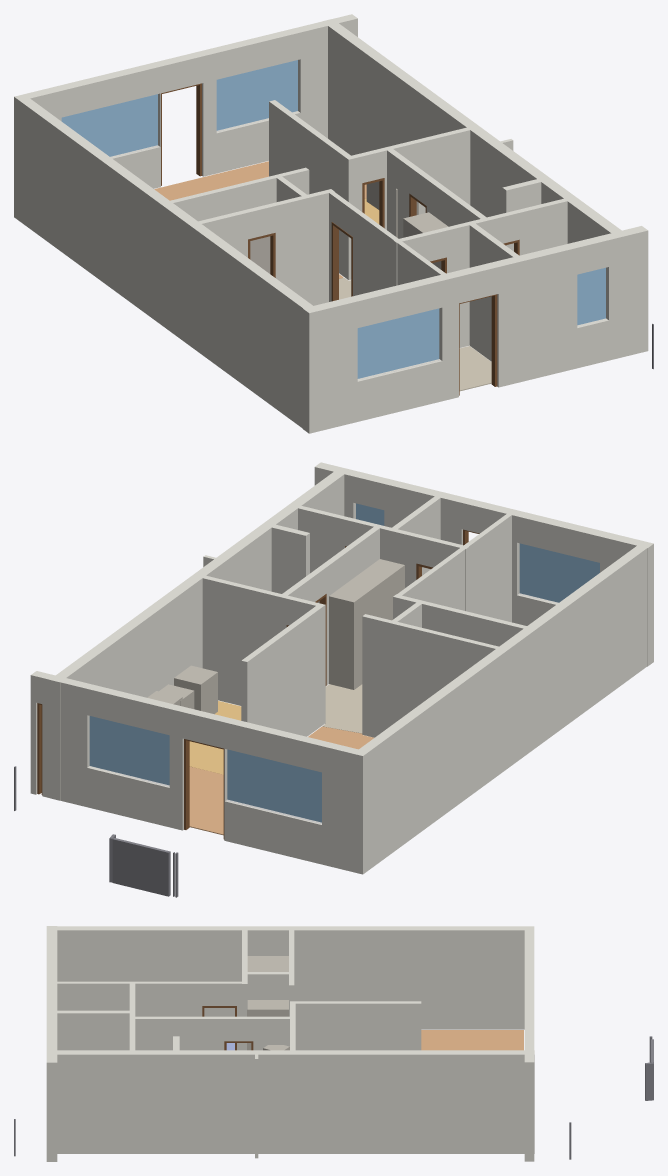
The picture shows the model from 3 angles, top to bottom: view 1: azimuth 30°, elevation 25°; view 2: azimuth 150°, elevation 25°; view 3: azimuth 270°, elevation 25°; orthographic projection. The views are drawn at different scales.
Visible parts, largest first — view 1: walls, window_0, window_4, window_3, floor_0_Living_Room, window_5, floor_6_Entry, door_1, furniture_2_closet, door_9, door_2, furniture_0_closet; view 2: walls, furniture_2_closet, window_3, window_4, railings, window_0, floor_0_Living_Room, floor_2_Entry, furniture_5_appliance, floor_1_Kitchen, door_2; view 3: walls, floor_0_Living_Room, furniture_0_closet, railings.
Boxes of the visible parts, x1,y1,x2,y2 form: walls: (14,14,648,433); window_0: (357,308,439,378); window_4: (216,60,297,130); window_3: (61,94,157,156); floor_0_Living_Room: (154,161,366,278); window_5: (577,267,605,325); floor_6_Entry: (459,346,491,391); door_1: (459,294,497,395); furniture_2_closet: (403,212,448,269); door_9: (331,222,352,301); door_2: (161,83,201,185); furniture_0_closet: (250,236,270,273); walls: (30,462,653,874); furniture_2_closet: (329,559,404,689); window_3: (227,749,321,822); window_4: (89,716,169,785); railings: (14,766,178,897); window_0: (519,543,599,602); floor_0_Living_Room: (189,726,373,835); floor_2_Entry: (322,684,362,733); furniture_5_appliance: (174,665,217,714); floor_1_Kitchen: (189,701,241,774); door_2: (184,739,224,839); walls: (46,926,534,1161); floor_0_Living_Room: (421,1030,523,1050); furniture_0_closet: (247,956,288,1050); railings: (14,1036,653,1159).
Size of the model in its own units: 7.95 by 2.72 by 15.76.
